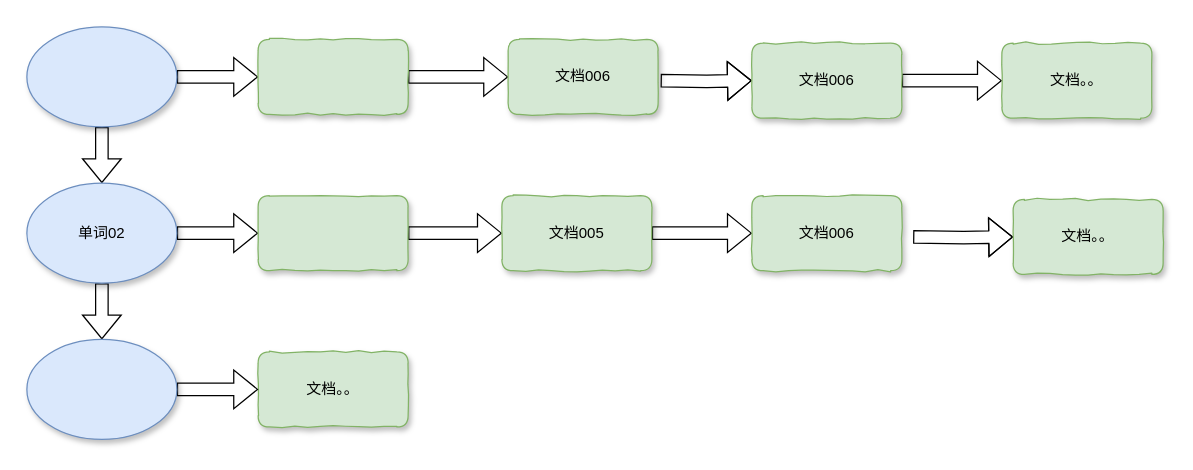
This 1193x470 diagram has some shape labels left out. The shapes that lost their labels are listed below. From the top down, each one's centre as x and y in pixels, then its label:
At pixel 102 78: "单词01".
At pixel 334 78: "文档001".
At pixel 334 234: "文档003".
At pixel 102 390: "单词。。".
